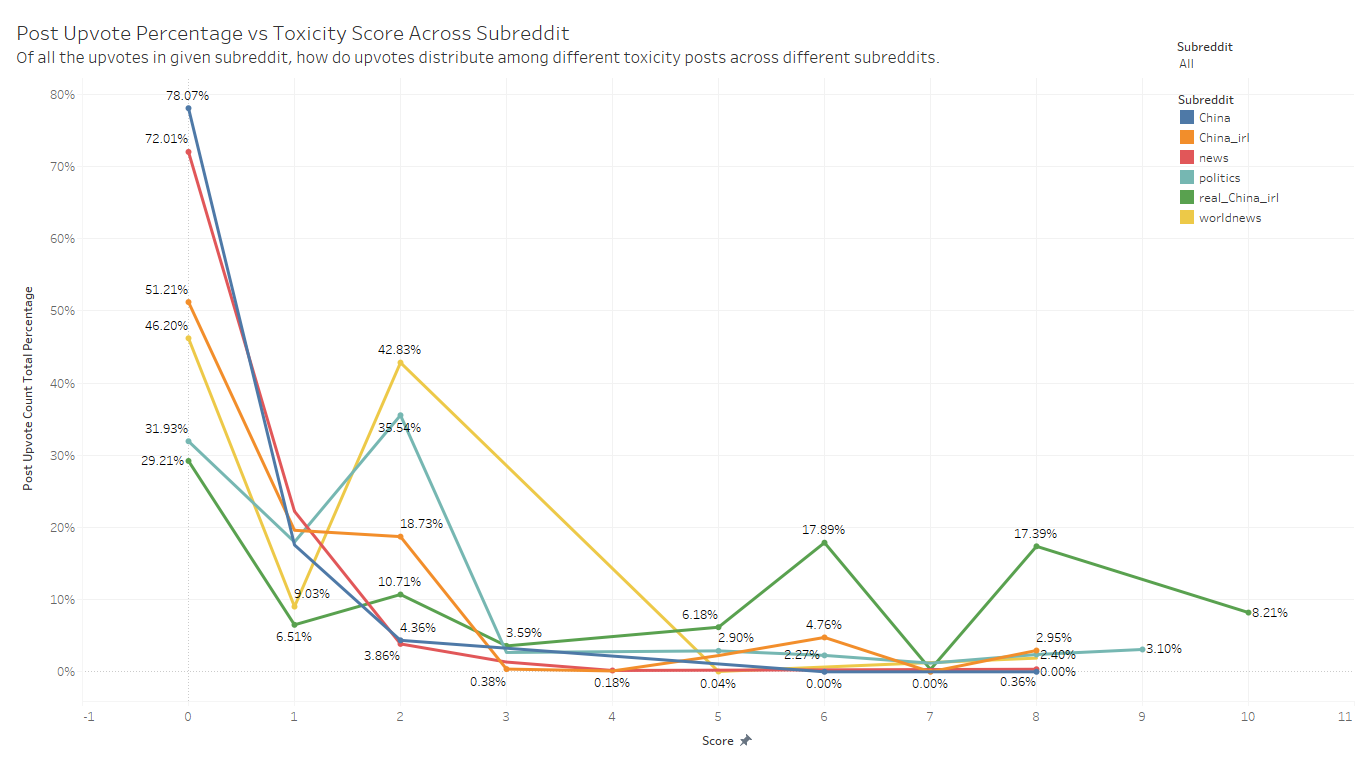

This screenshot's page, from the dashboard's own definition file:
{"tool":"tableau","page":{"name":"Post Upvote Percentage","canvas":[1366,768],"ordinal":2},"visuals":[{"type":"worksheet","title":"Post Upvote Percentage vs Toxicity Score Across Subreddit","mark":"Automatic","cols":["score"],"box":[8,8,1350,752]},{"type":"filter","title":"Post Upvote Percentage vs Toxicity Score Across Subreddit","param":"[federated.0mft8ec1ac1t5p18vhkcq055l7tk].[none:subreddit:nk]","box":[1173,33,160,52]},{"type":"legend","title":"Post Upvote Percentage vs Toxicity Score Across Subreddit","param":"[federated.0mft8ec1ac1t5p18vhkcq055l7tk].[none:subreddit:nk]","box":[1173,85,160,146]}]}

Visuals, with their boxes in screenshot pixels (x1, y1, x2, y2), scaled from the page's 1366x768 canvas onto the 1366x768 screenshot:
"Post Upvote Percentage vs Toxicity Score Across Subreddit" worksheet: <region>8, 8, 1358, 760</region>
"Post Upvote Percentage vs Toxicity Score Across Subreddit" filter: <region>1173, 33, 1333, 85</region>
"Post Upvote Percentage vs Toxicity Score Across Subreddit" legend: <region>1173, 85, 1333, 231</region>
